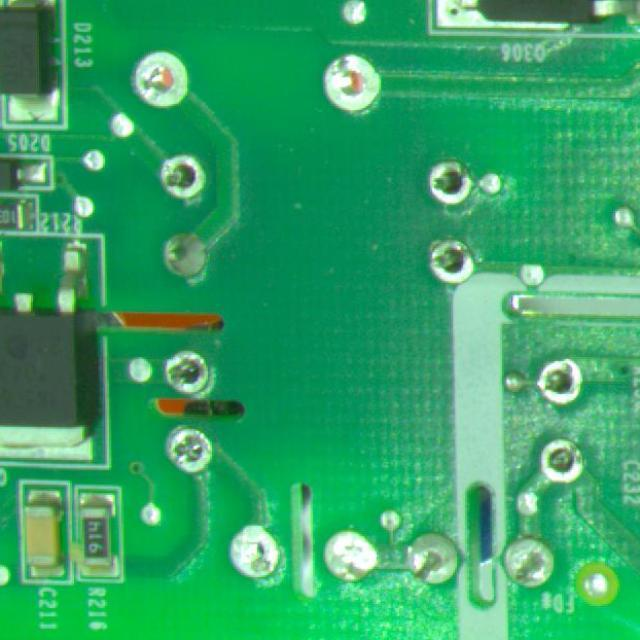Insufficient solder: (203, 498, 289, 584), (312, 49, 388, 120), (319, 518, 383, 584), (524, 348, 590, 408), (128, 45, 188, 110), (420, 234, 482, 292), (420, 147, 480, 206), (530, 430, 588, 490), (153, 141, 209, 203), (150, 344, 215, 397), (161, 419, 221, 476)
